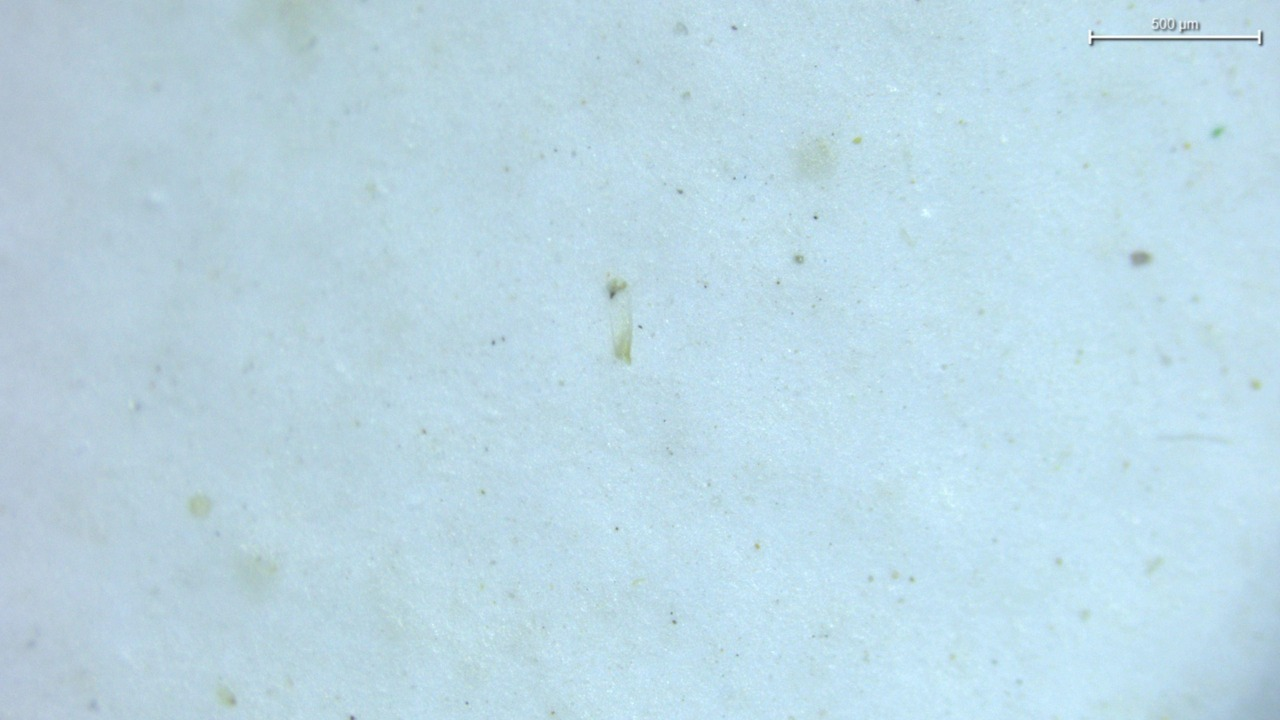microplastic_fragment: (605, 276, 632, 364)
